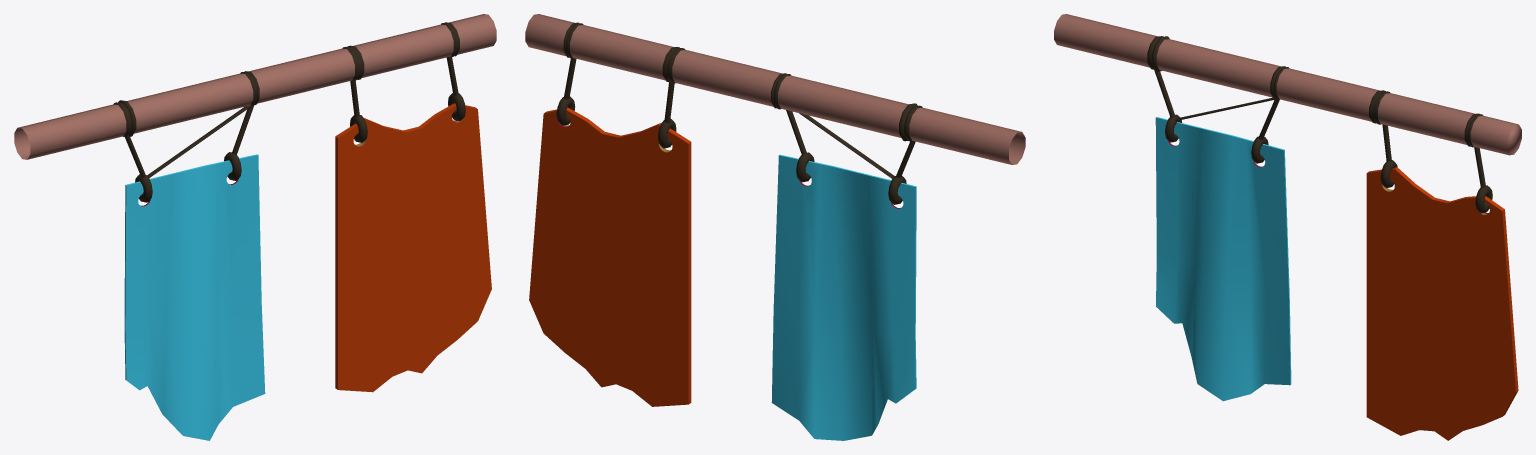
The model's file is SM_teli.fbx.
3 renders of one model, left to right at view 1: azimuth 30°, elevation 25°; view 2: azimuth 150°, elevation 25°; view 3: azimuth 330°, elevation 25°, orthographic. The views are drawn at different scales.
Visible parts, largest first — view 1: pCube45; view 2: pCube45; view 3: pCube45.
Boxes of the visible parts, x1,y1,x2,y2 form: pCube45: (14, 14, 496, 440); pCube45: (525, 14, 1025, 440); pCube45: (1054, 14, 1521, 440).
Bounding box in the file's own units: 256 × 183 × 18.69.
